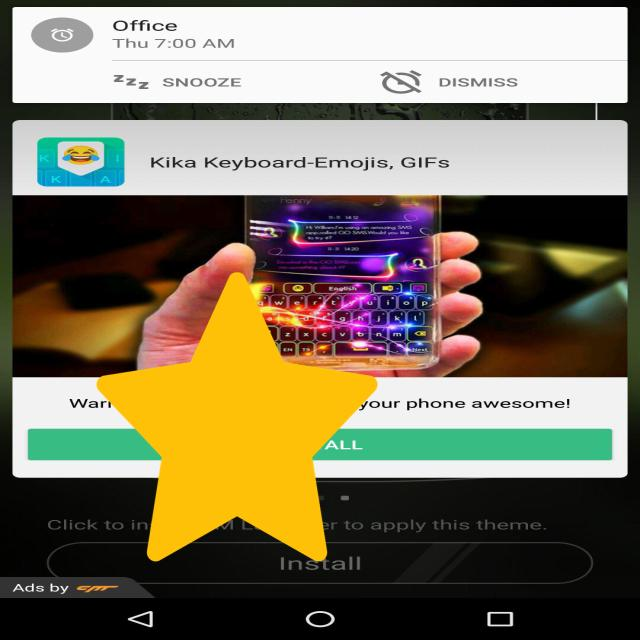forced continuity: (96, 272, 378, 562)
